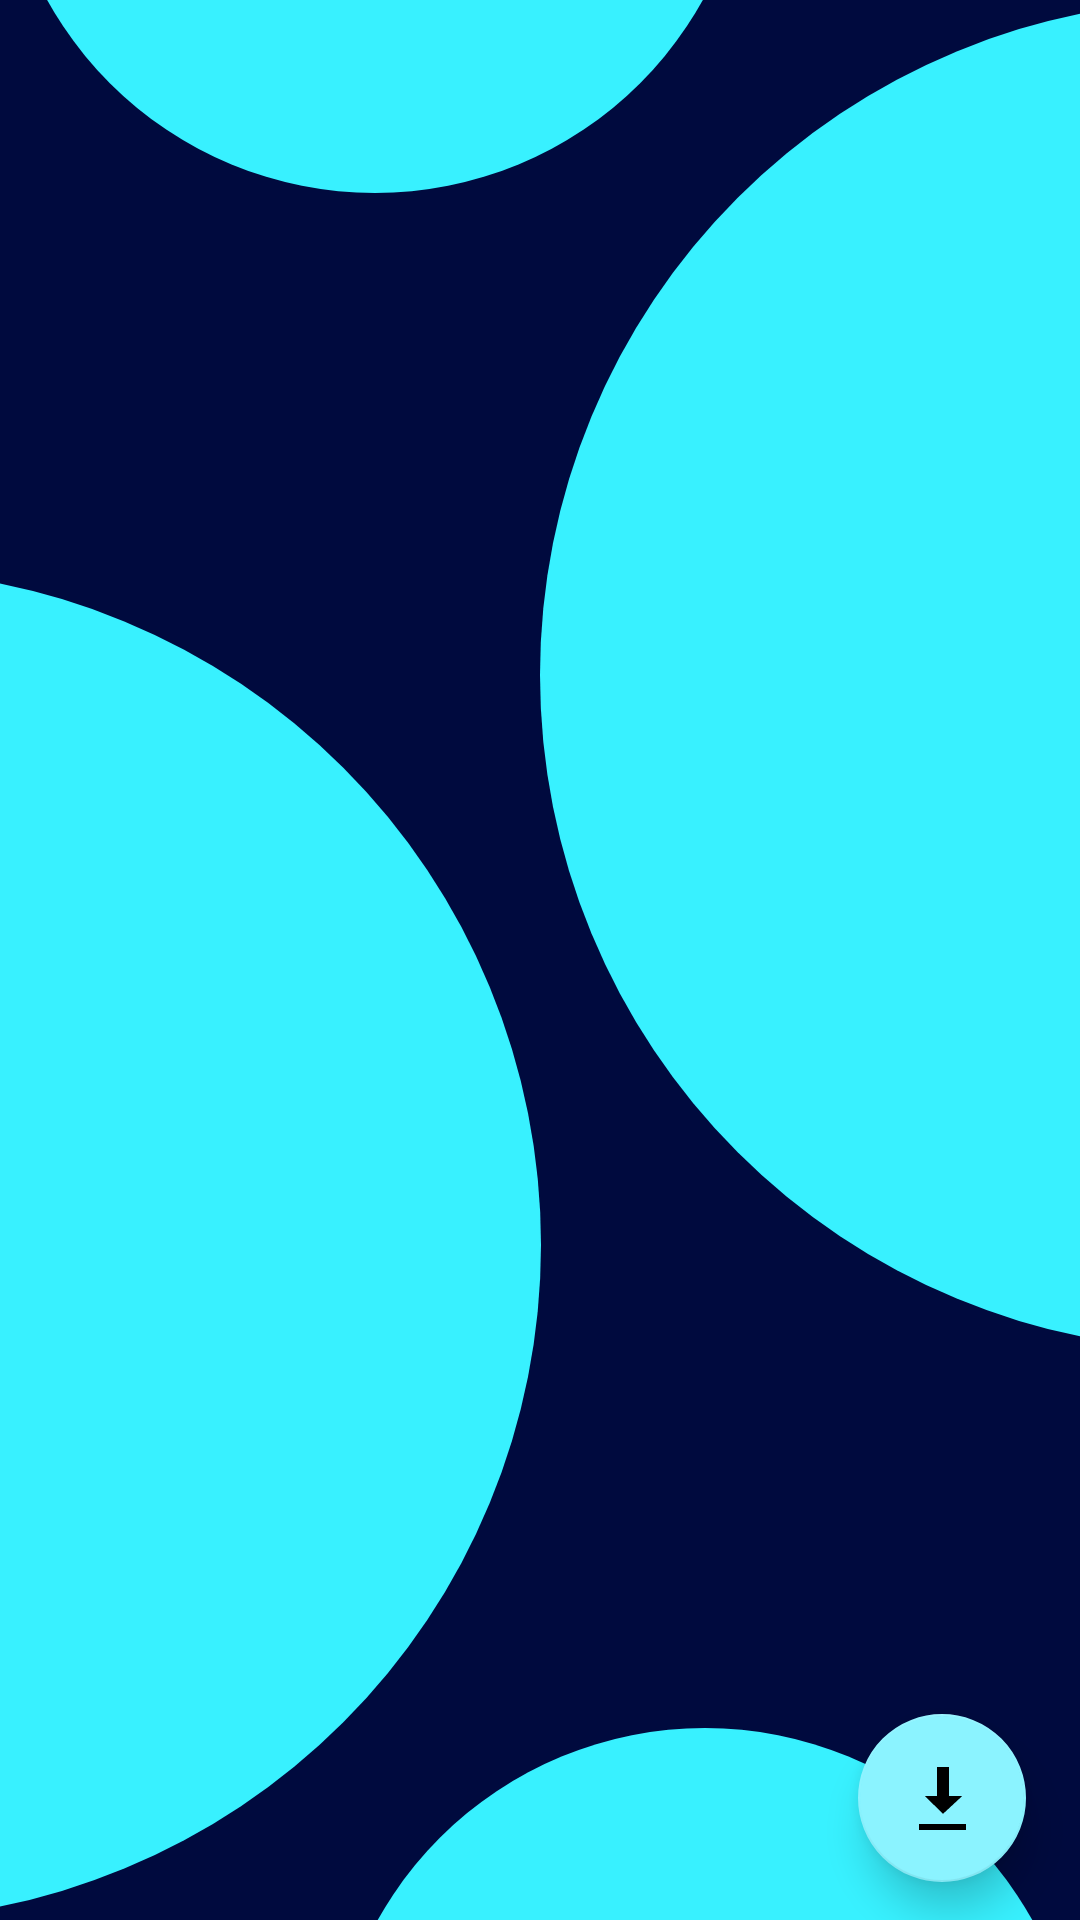

Screen size 1080w x 1920h. Icon name, then its center in pixels as (x,y):
Downloaded Templates: (942,1798)
